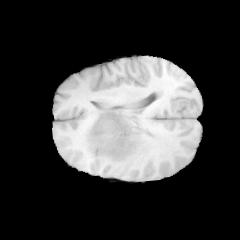glioma: (82, 110, 143, 161)
